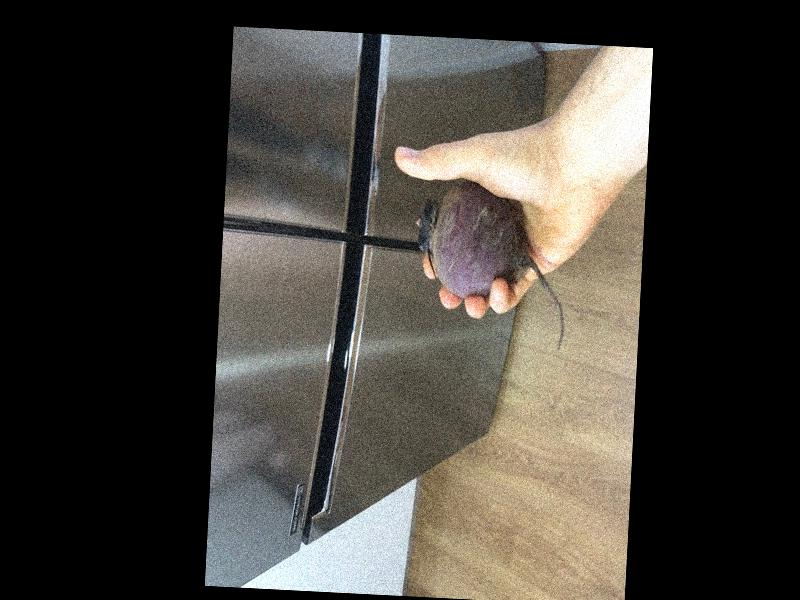Beet: (410, 178, 570, 352)
